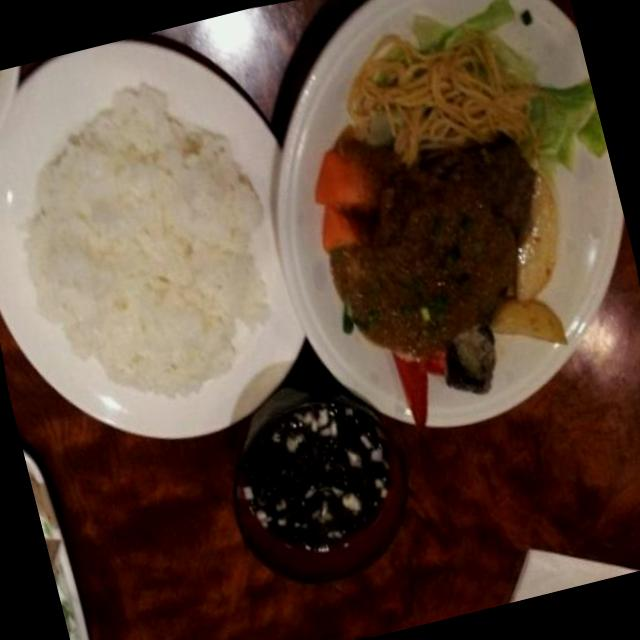Rice: (0, 57, 306, 452)
